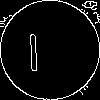I: (25, 25, 42, 71)
